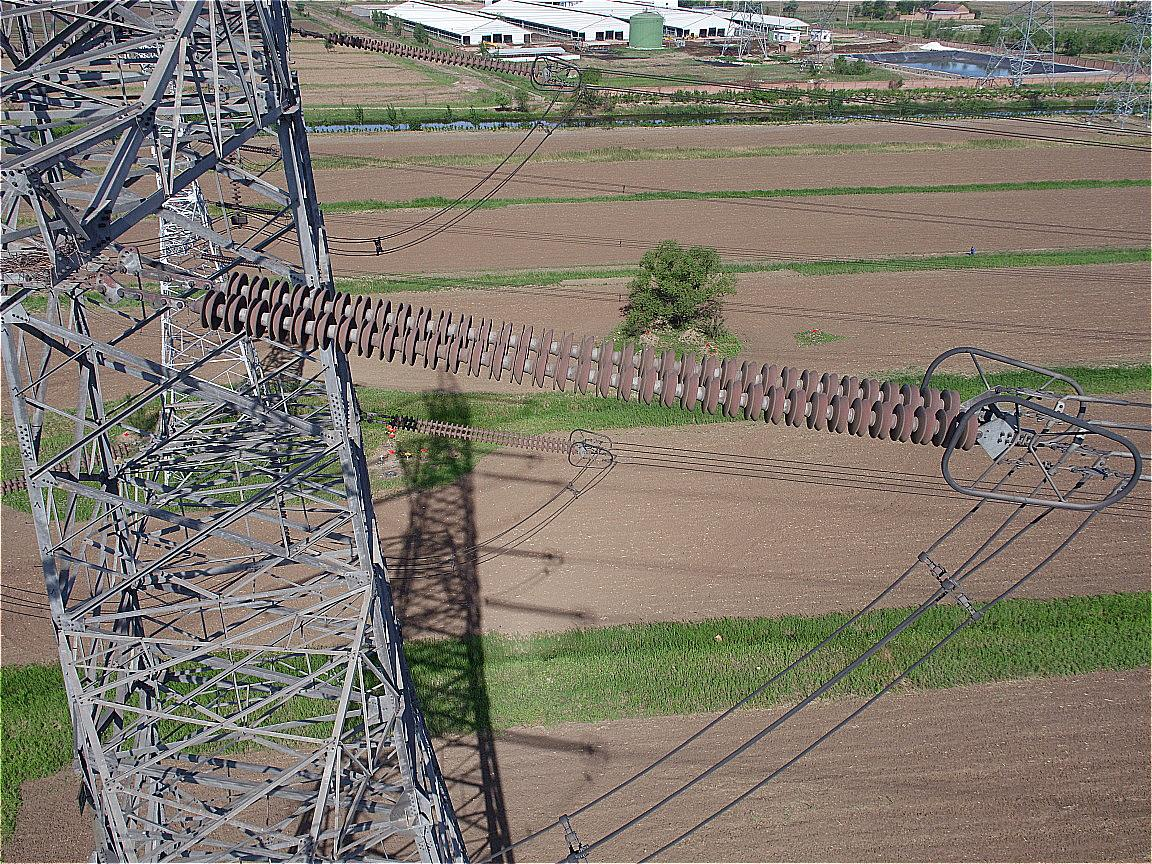insultor1: (328, 33, 540, 78), (388, 413, 578, 456)
insultor2: (202, 268, 977, 450)
